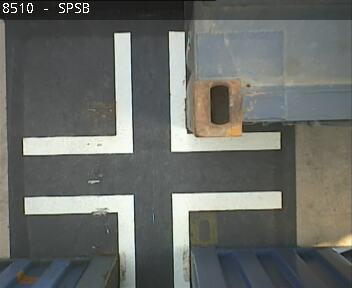groundmarker_1: (23, 35, 278, 156), (21, 193, 281, 287)
